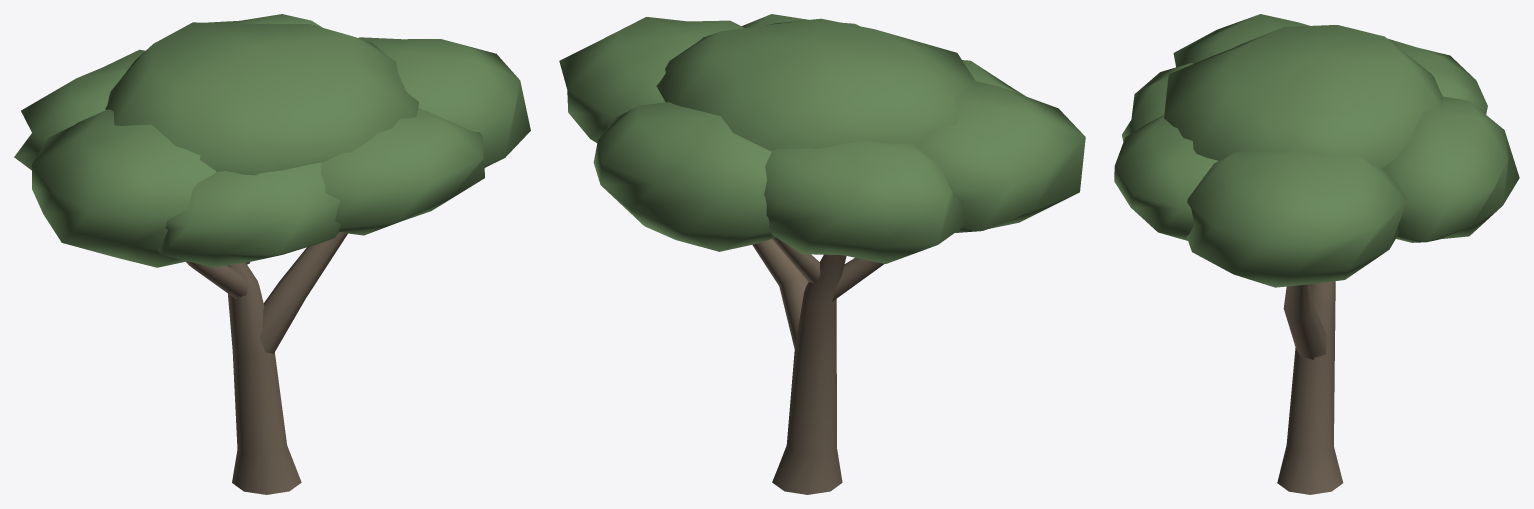
File: tree_raintree.glb
The picture shows the model from 3 angles, left to right: view 1: azimuth 30°, elevation 25°; view 2: azimuth 150°, elevation 25°; view 3: azimuth 270°, elevation 25°; orthographic projection. The views are drawn at different scales.
Parts seen in each view (by area): view 1: tree_raintree; view 2: tree_raintree; view 3: tree_raintree.
Part boxes in pixels (x1=…): tree_raintree: x1=14, y1=14, x2=530, y2=494; tree_raintree: x1=559, y1=14, x2=1085, y2=494; tree_raintree: x1=1114, y1=14, x2=1519, y2=494.
Size of the model in its own units: 16 by 14 by 12.32.
